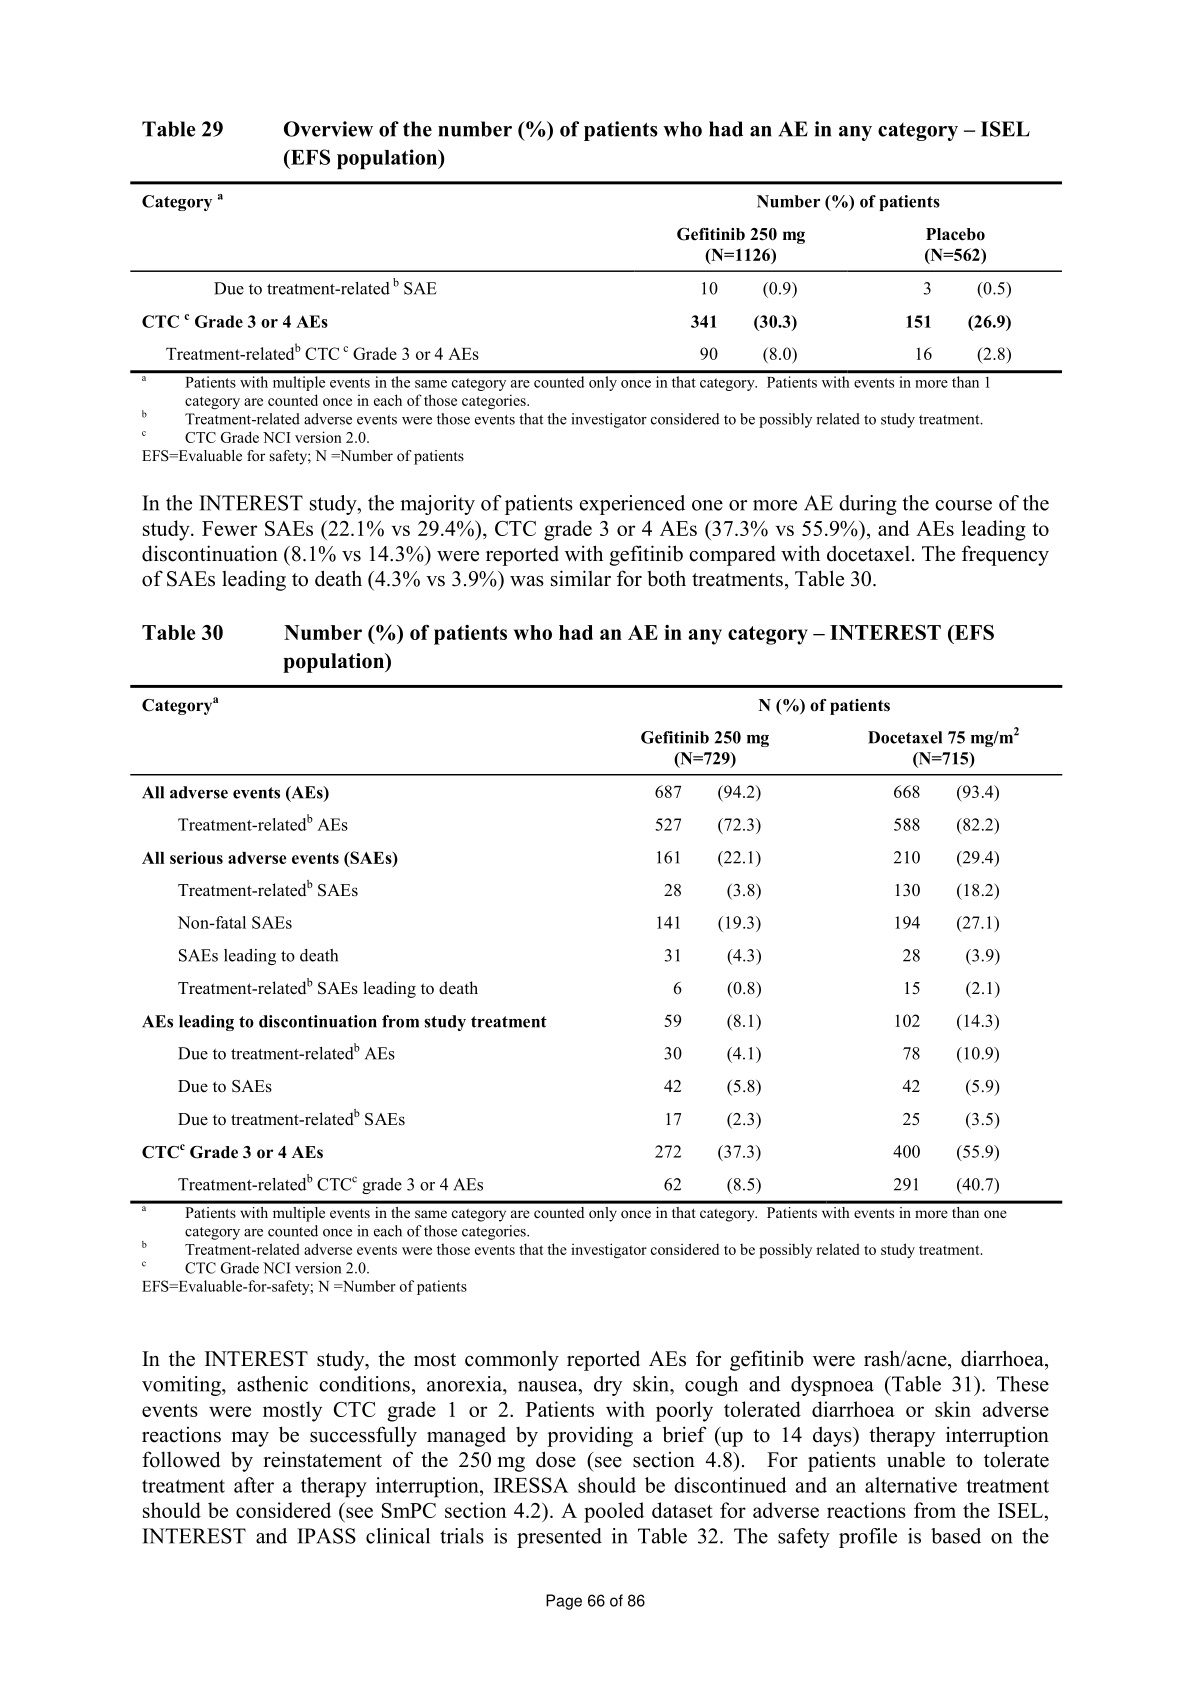partial_lined_merged_cells: (130, 684, 1062, 1205), (129, 179, 1062, 373)
